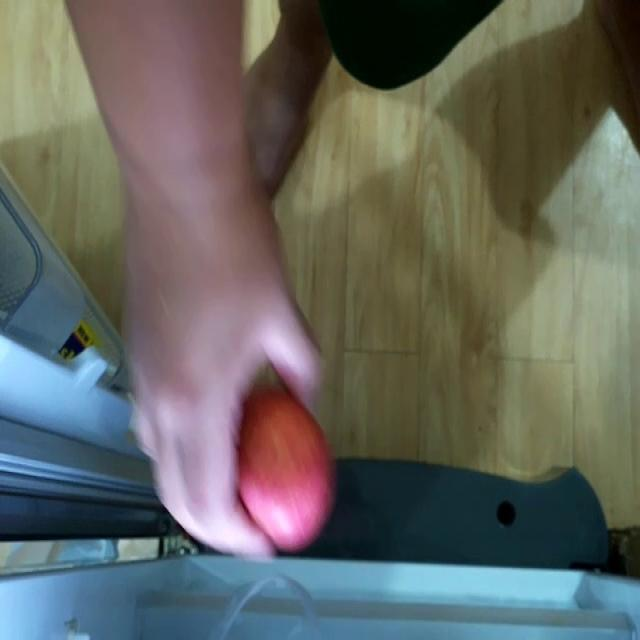apple: (230, 390, 335, 542)
